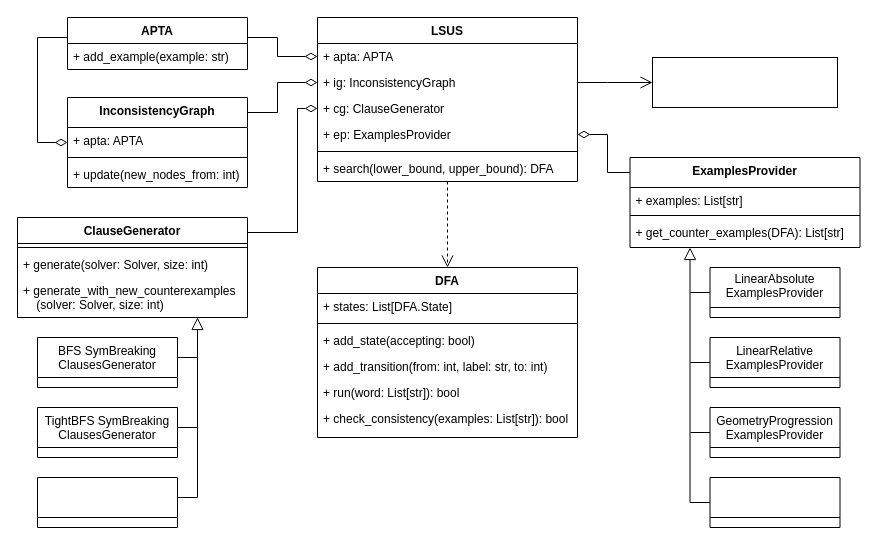
Some shapes in this 878 by 545 pixel diagram are drawn without their labels. Here are the shapes that lost their labels. From the top down, the centre of each, then its label:
At pixel 745 82: "«interface» SAT Solver (pysat.solvers.Solver)".
At pixel 107 502: "NoSymBreaking ClausesGenerator".
At pixel 774 502: "NonCegar ExamplesProvider".
